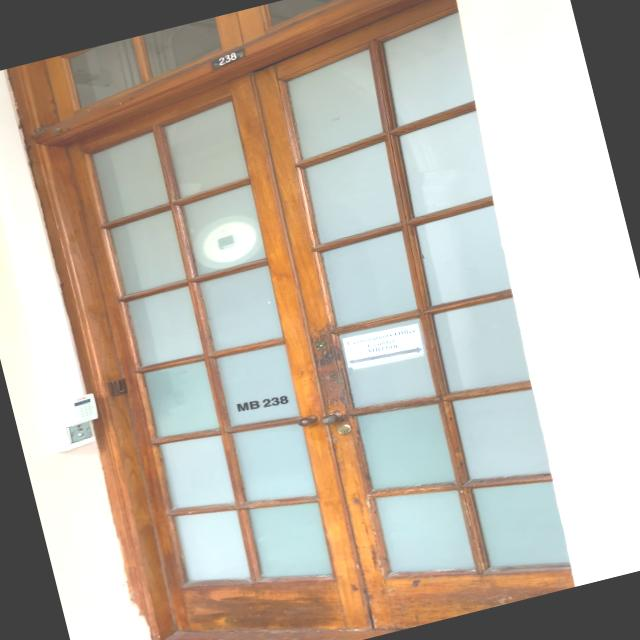room238: (206, 44, 250, 71)
